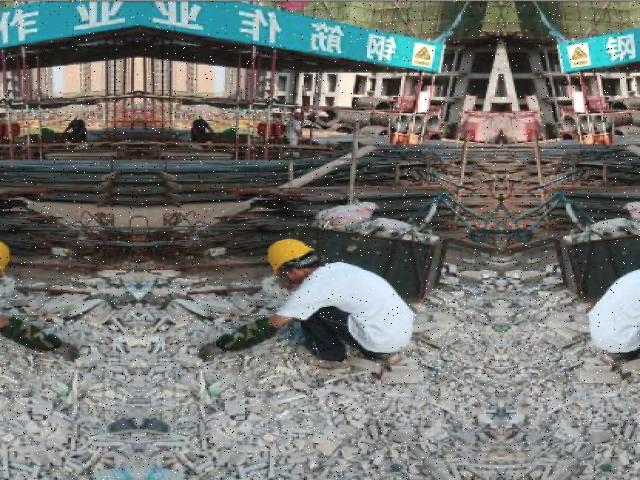Helmet: (262, 234, 321, 279)
